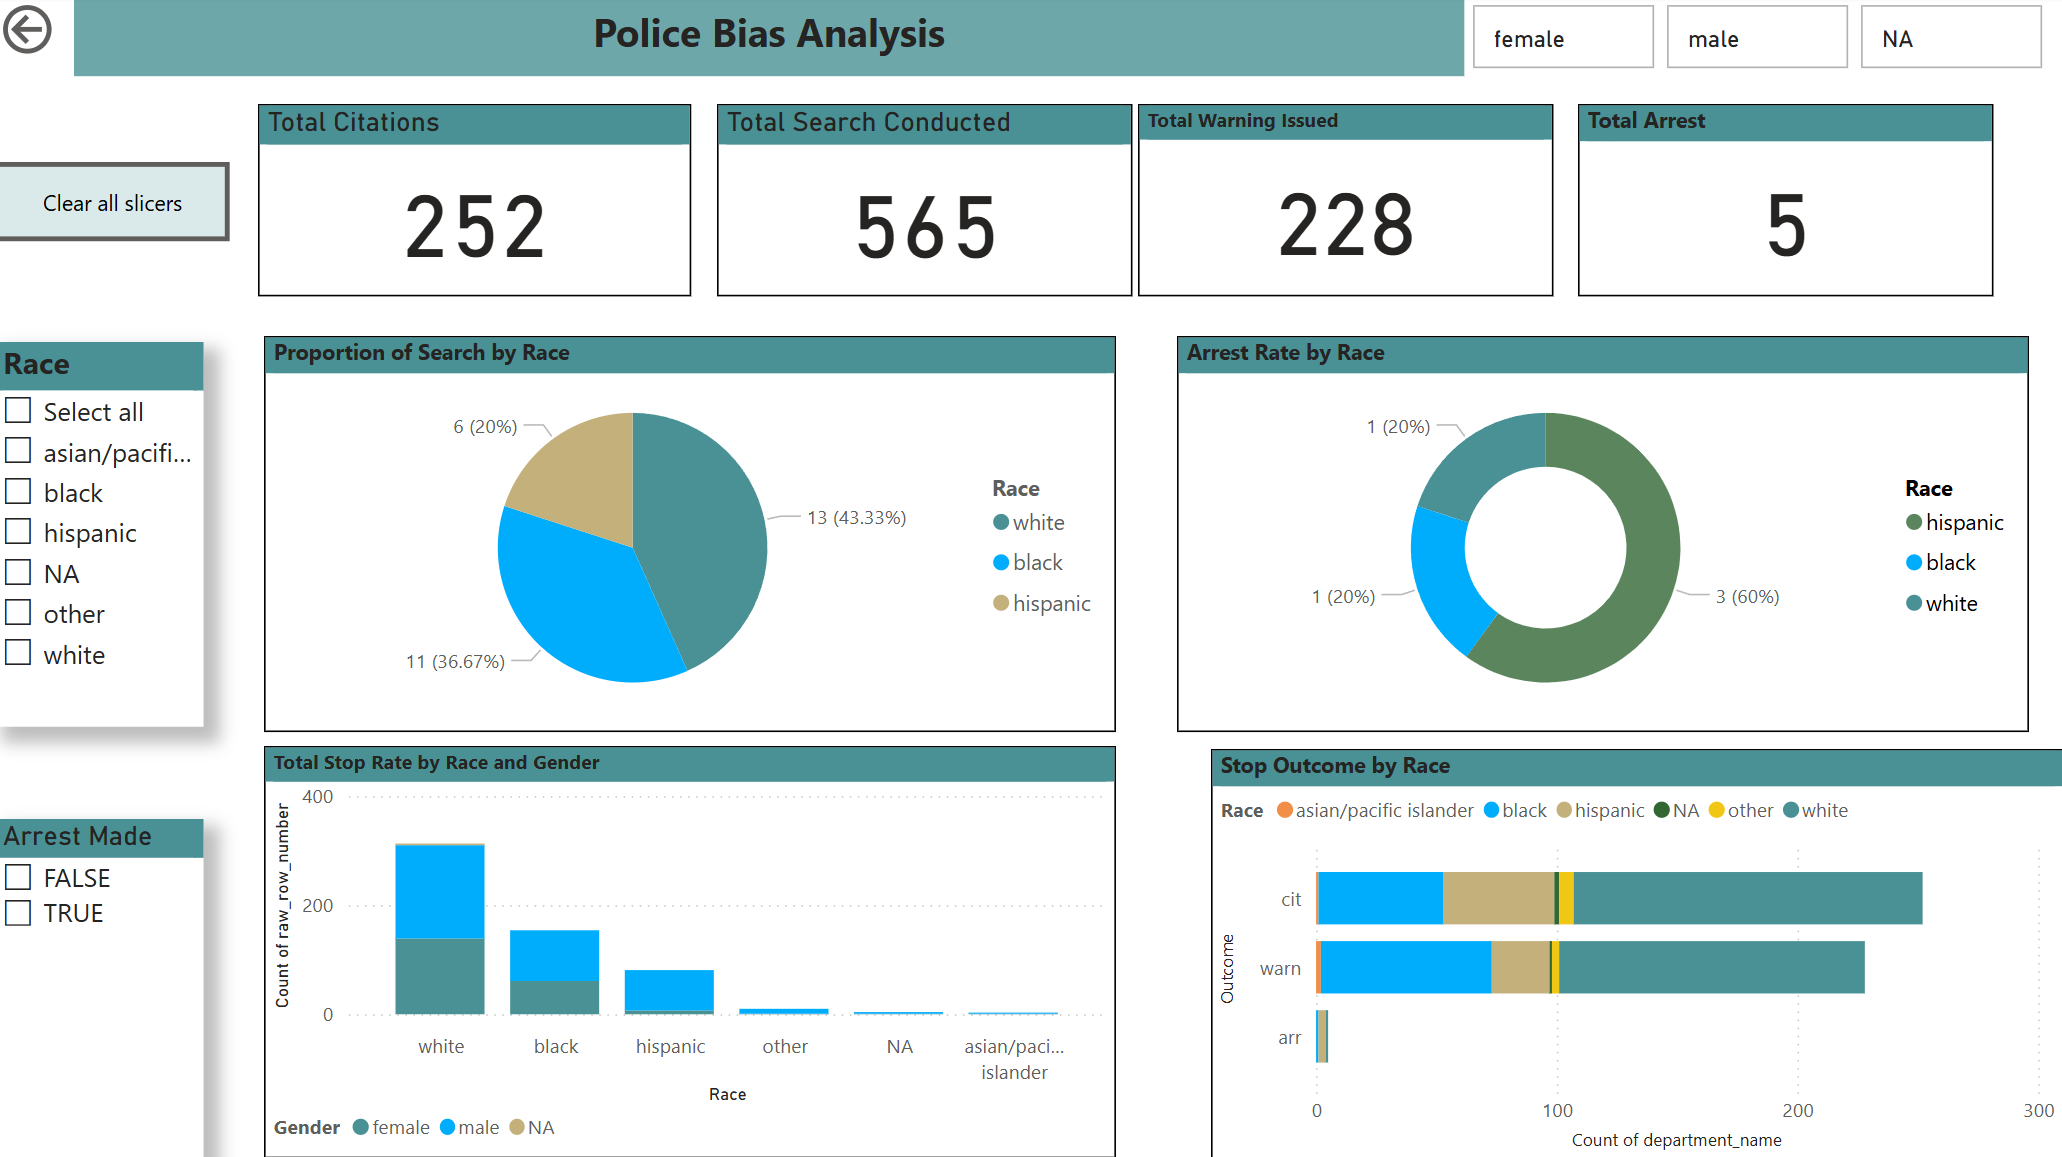

This screenshot's page, from the dashboard's own definition file:
{"tool":"powerbi","page":{"name":"Page 1","canvas":[1280,720],"ordinal":0},"visuals":[{"type":"advancedSlicerVisual","fields":{"Values":["MD State Data.Gender"]},"box":[909,0,362.8,49.1],"z":0},{"type":"actionButton","box":[0,0,100,40],"z":1000},{"type":"columnChart","title":"Total Stop Rate by Race and Gender","fields":{"Category":["MD State Data.Race"],"Y":["CountNonNull(MD State Data.raw_row_number)"],"Series":["MD State Data.Gender"]},"box":[166.3,463,527.2,255],"z":2000},{"type":"card","title":"Total Warning Issued","fields":{"Values":["CountNonNull(MD State Data.raw_row_number)"]},"box":[706.8,66.1,257,119.1],"z":3000},{"type":"donutChart","title":"Arrest Rate by Race","fields":{"Category":["MD State Data.Race"],"Y":["CountNonNull(MD State Data.raw_row_number)"]},"box":[731.3,209.8,527.2,245],"z":4000},{"type":"card","title":"Total Arrest ","fields":{"Values":["CountNonNull(MD State Data.raw_row_number)"]},"box":[978.9,66.1,257,119.1],"z":5000},{"type":"pieChart","title":"Proportion of Search by Race","fields":{"Category":["MD State Data.Race"],"Y":["CountNonNull(MD State Data.raw_row_number)"]},"box":[166.3,209.8,527.2,245],"z":6000},{"type":"barChart","title":"Stop Outcome by Race","fields":{"Category":["MD State Data.raw_Outcome"],"Y":["CountNonNull(MD State Data.department_name)"],"Series":["MD State Data.Race"]},"box":[752.2,465.2,527.6,254.8],"z":7000},{"type":"card","title":"Total Search Conducted","fields":{"Values":["CountNonNull(MD State Data.search_conducted)"]},"box":[446.8,66.3,257,119],"z":8000},{"type":"listSlicer","fields":{"Values":["MD State Data.Race"]},"box":[0,213.5,128.5,238.1],"z":9000},{"type":"listSlicer","fields":{"Values":["MD State Data.arrest_made"]},"box":[0,508.4,128.5,209.8],"z":10000},{"type":"actionButton","box":[0,102,145.5,49.1],"z":11000},{"type":"card","title":"Total Citations","fields":{"Values":["MD State Data.Total_citations"]},"box":[162.5,66.1,268.3,119.1],"z":12000},{"type":"textbox","box":[49.1,0,859.8,49.1],"z":13000}]}

Visuals, with their boxes in screenshot pixels (x1, y1, x2, y2):
advancedSlicerVisual - MD State Data.Gender: 1437:32:2011:110
actionButton: 0:32:158:95
"Total Stop Rate by Race and Gender" columnChart: 263:764:1097:1156
"Total Warning Issued" card: 1118:137:1524:325
"Arrest Rate by Race" donutChart: 1156:364:1990:751
"Total Arrest " card: 1548:137:1954:325
"Proportion of Search by Race" pieChart: 263:364:1097:751
"Stop Outcome by Race" barChart: 1189:768:2024:1156
"Total Search Conducted" card: 707:137:1113:325
listSlicer - MD State Data.Race: 0:370:203:746
listSlicer - MD State Data.arrest_made: 0:836:203:1156
actionButton: 0:194:230:271
"Total Citations" card: 257:137:681:325
textbox: 78:32:1437:110
